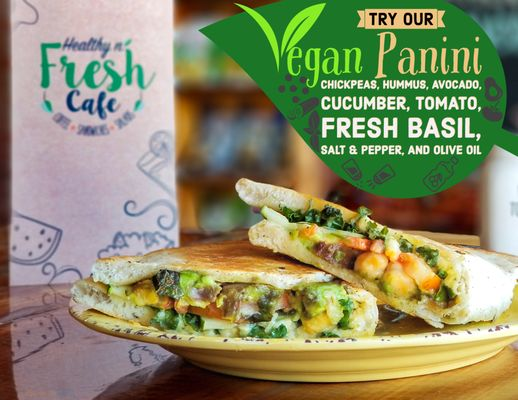pizza: (194, 1, 515, 241)
